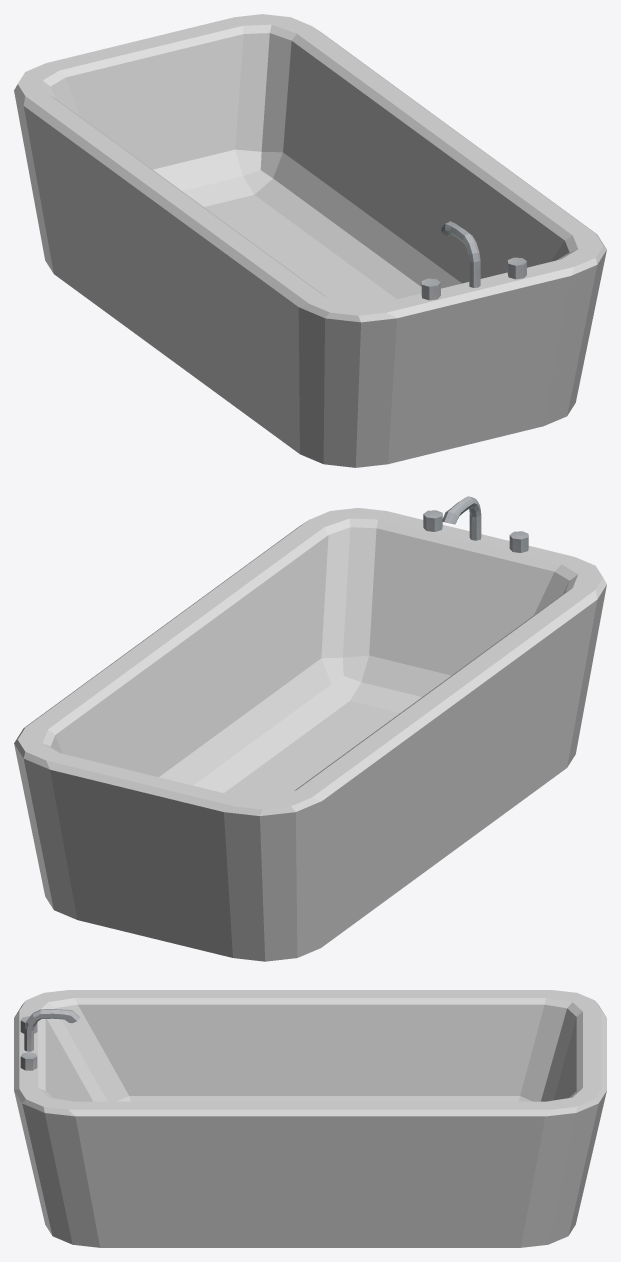
Rendered from BATHTUB.fbx.
3 views of the same model, one above another, from view 1: azimuth 30°, elevation 25°; view 2: azimuth 150°, elevation 25°; view 3: azimuth 270°, elevation 25° (orthographic). The views are drawn at different scales.
Visible parts, largest first — view 1: BATHTUB; view 2: BATHTUB; view 3: BATHTUB.
Boxes of the visible parts, left/top/right/bottom form: BATHTUB: left=14, top=14, right=606, bottom=467; BATHTUB: left=14, top=496, right=606, bottom=961; BATHTUB: left=14, top=990, right=606, bottom=1247.
Size of the model in its own units: 121 by 82.69 by 243.
